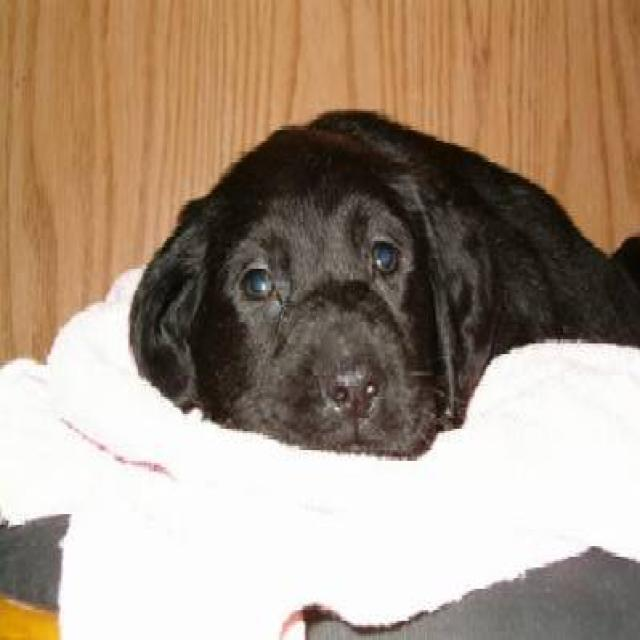dogs: (117, 82, 640, 512)
